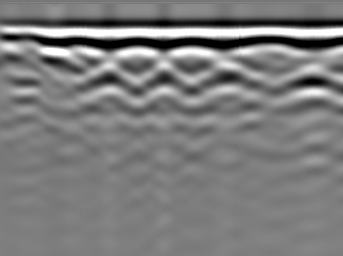pipe: (1, 31, 40, 56)
steel: (83, 67, 133, 105), (286, 68, 337, 105), (208, 65, 256, 103), (145, 67, 191, 103)
